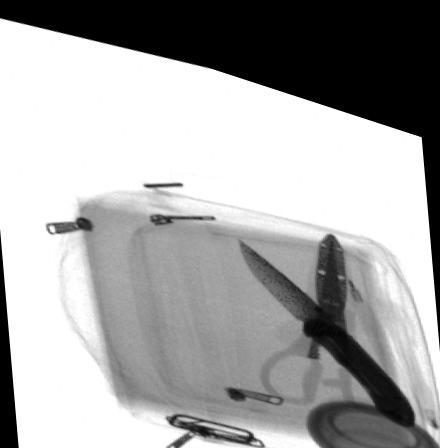Knife: (236, 222, 418, 404)
Scissors: (259, 212, 399, 402)
